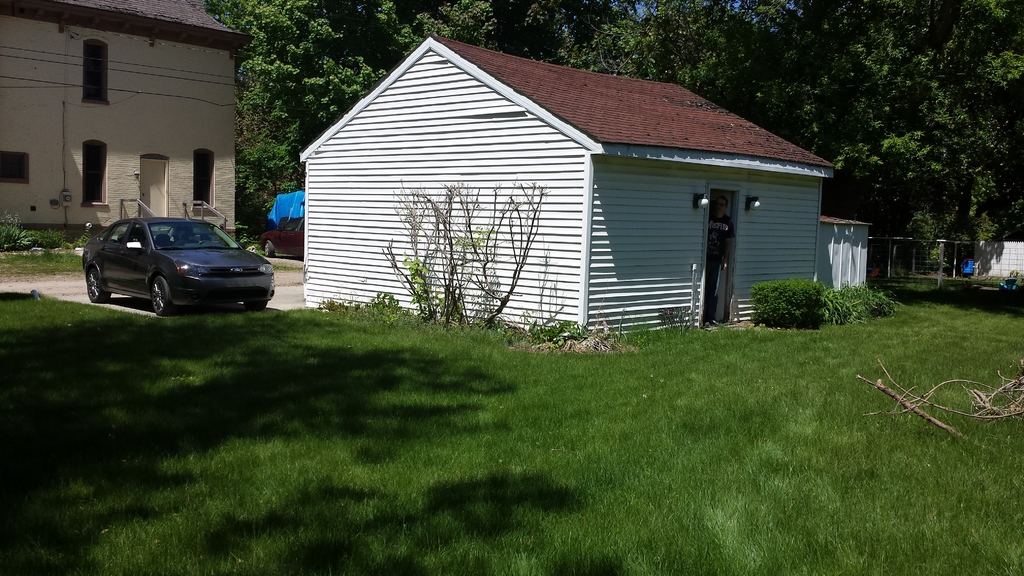Car: (66, 202, 272, 309)
